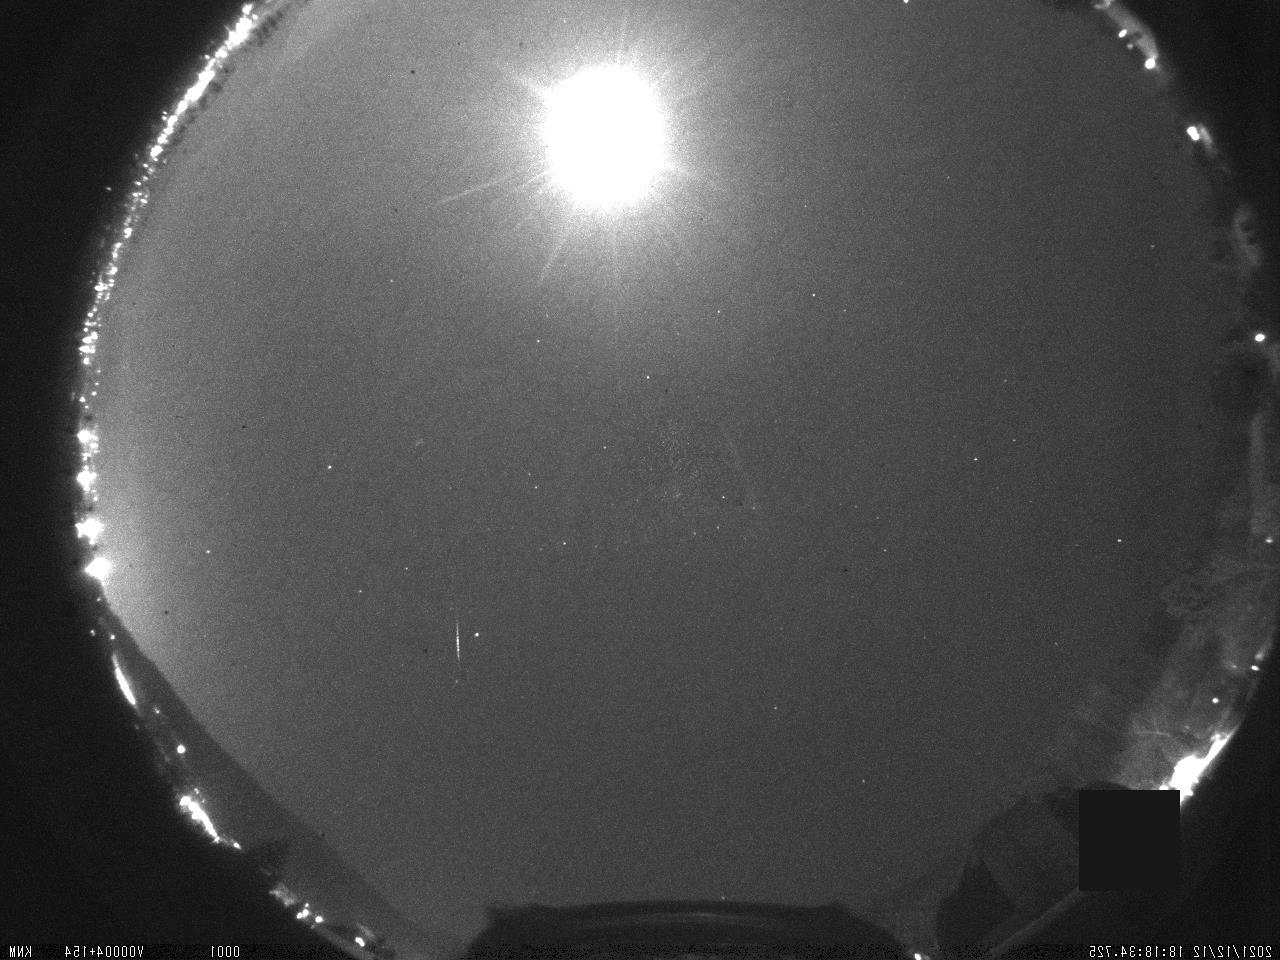meteor: (427, 605, 480, 696)
